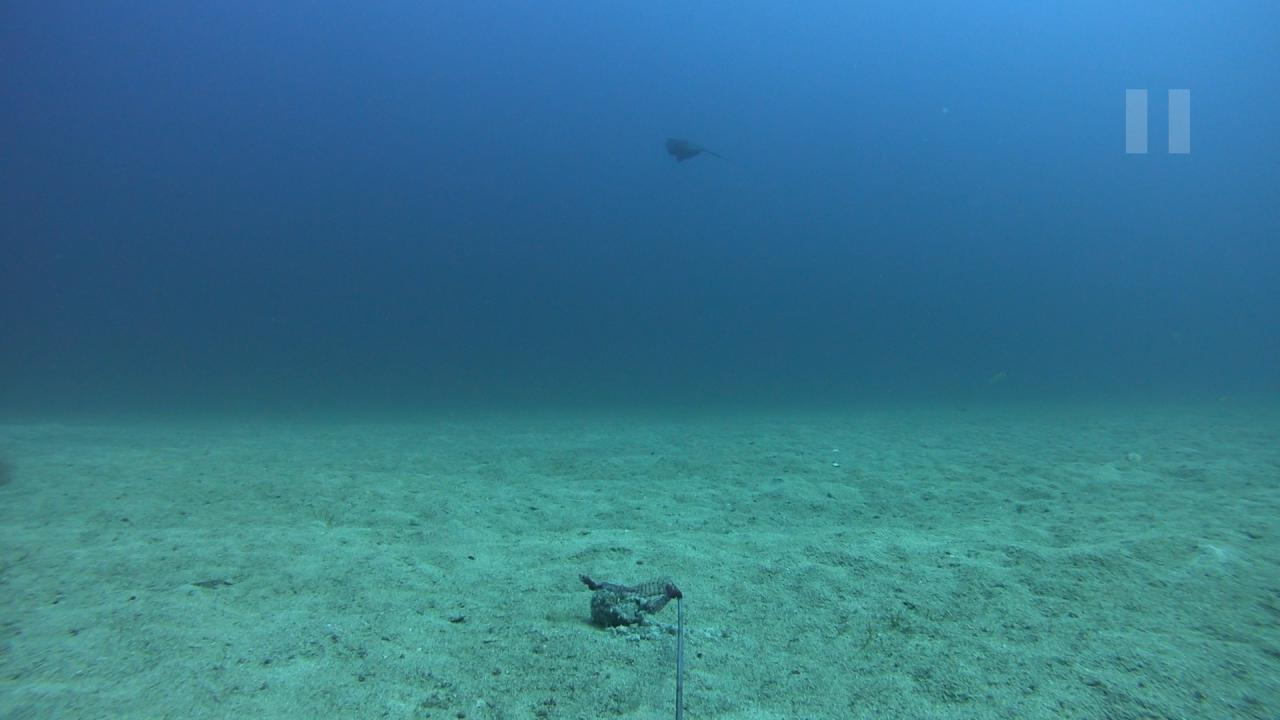dasyatis: (661, 134, 733, 165)
